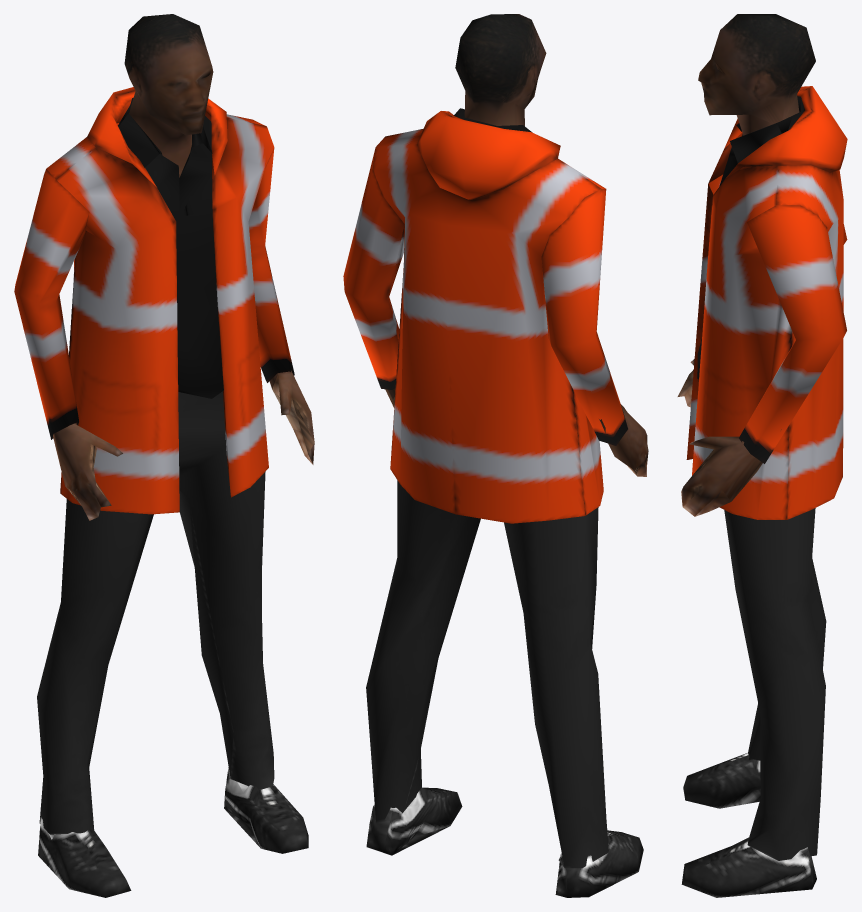
The model's file is LOW_Marshall01_TB.fbx.
3 renders of one model, left to right at view 1: azimuth 30°, elevation 25°; view 2: azimuth 150°, elevation 25°; view 3: azimuth 270°, elevation 25°, orthographic.
Parts seen in each view (by area): view 1: LOW_Marshall01_TB; view 2: LOW_Marshall01_TB; view 3: LOW_Marshall01_TB.
Part boxes in pixels (x1,y1,x2,y2): LOW_Marshall01_TB: (14, 14, 314, 897); LOW_Marshall01_TB: (343, 14, 648, 897); LOW_Marshall01_TB: (677, 14, 847, 897).
Size of the model in its own units: 55.86 by 179 by 33.37.
